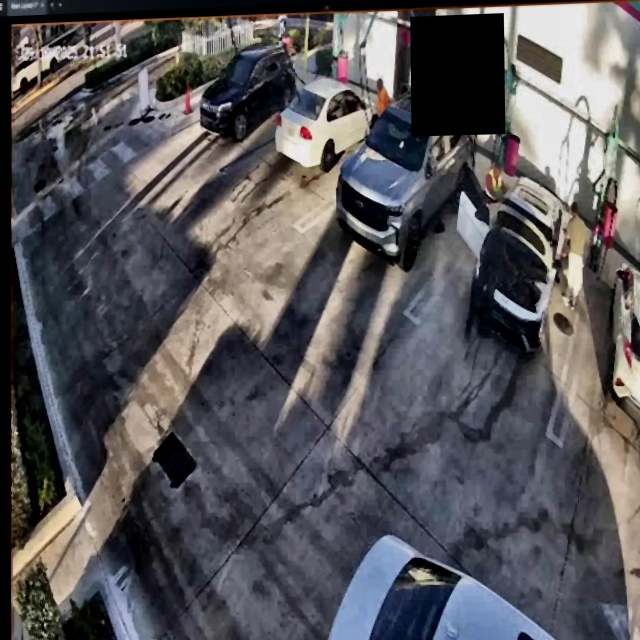Car: (335, 82, 472, 271), (463, 162, 571, 350), (275, 74, 381, 170)
